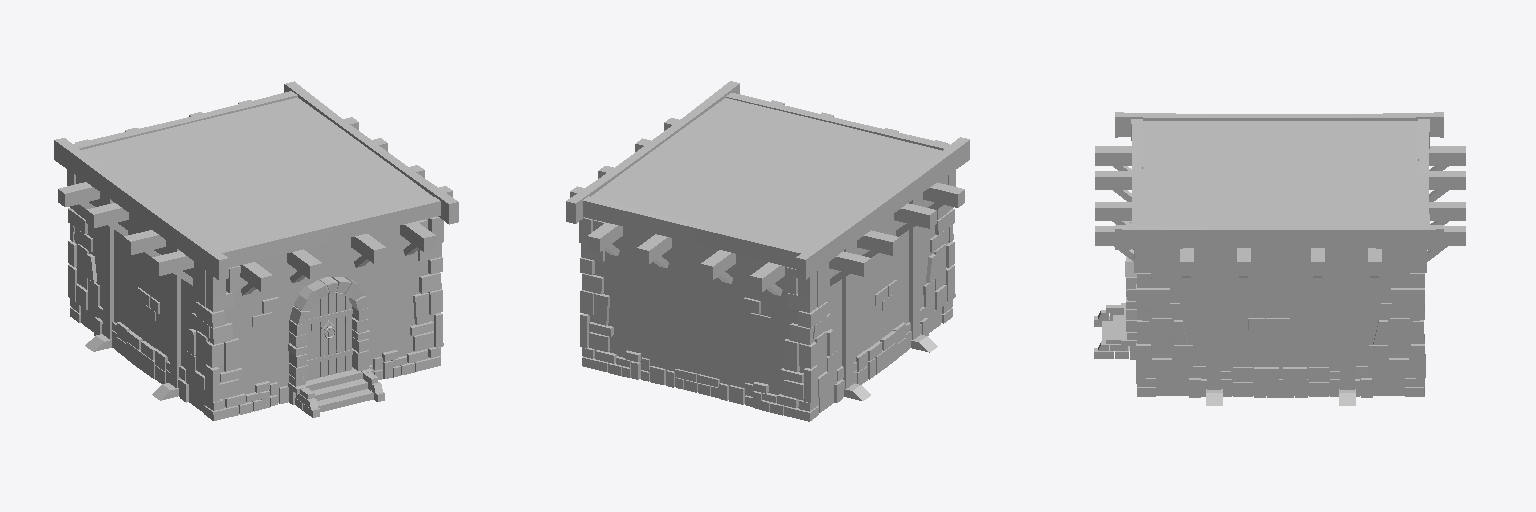
The model's file is House_4.obj.
3 views of the same model, side by side, from view 1: azimuth 30°, elevation 25°; view 2: azimuth 150°, elevation 25°; view 3: azimuth 270°, elevation 25° (orthographic).
Parts seen in each view (by area): view 1: House_4_Cube.037; view 2: House_4_Cube.037; view 3: House_4_Cube.037.
Boxes of the visible parts, <box> form: House_4_Cube.037: <box>54,81,458,420</box>; House_4_Cube.037: <box>566,81,969,421</box>; House_4_Cube.037: <box>1094,112,1465,405</box>.
Bounding box in the file's own units: 1.94 × 1.07 × 2.12.